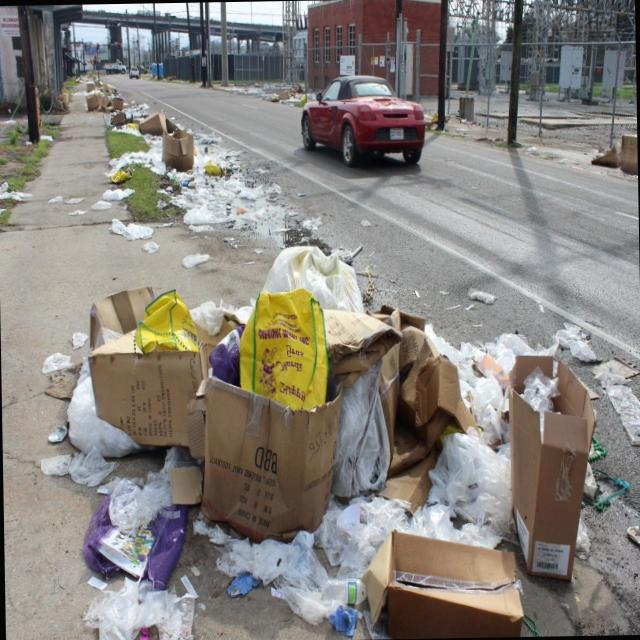garbage: (42, 241, 608, 640), (96, 110, 284, 238), (78, 72, 124, 114)
